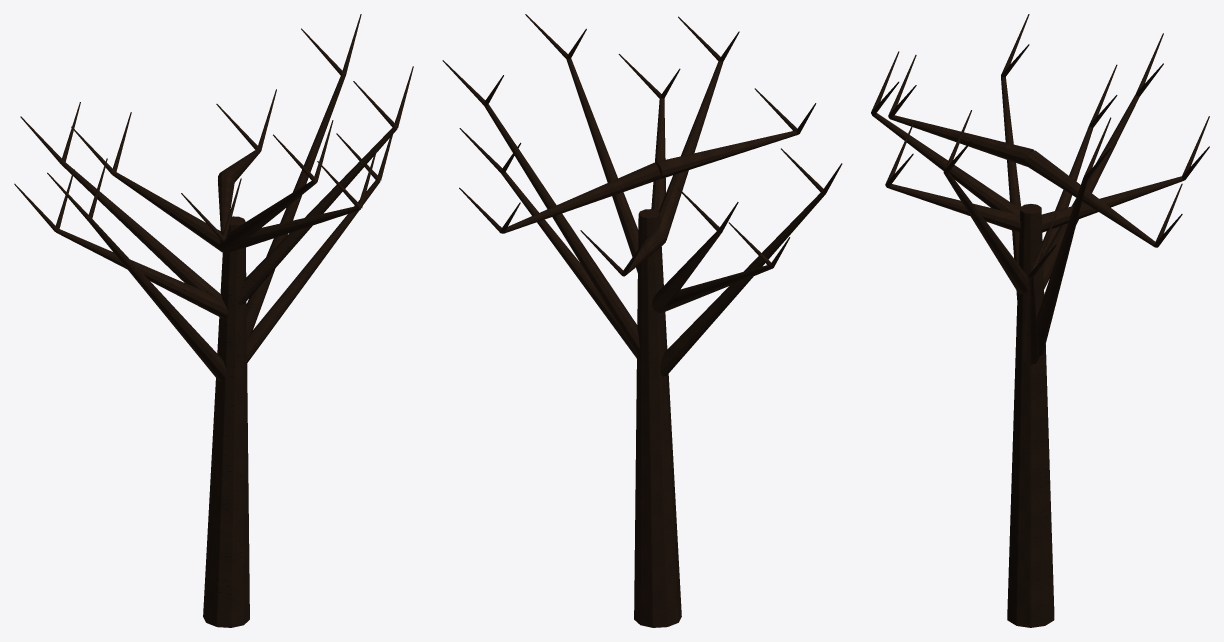
Rendered from PROP-B3FCEFD77653_lod1.glb.
3 views of the same model, side by side, from view 1: azimuth 30°, elevation 25°; view 2: azimuth 150°, elevation 25°; view 3: azimuth 270°, elevation 25° (orthographic). The views are drawn at different scales.
Parts seen in each view (by area): view 1: branch.008, trunk.020, bare_twigs.002; view 2: branch.008, trunk.020, bare_twigs.002; view 3: branch.008, trunk.020, bare_twigs.002.
Part boxes in pixels (x1=…): branch.008: x1=56, y1=75, x2=397, y2=381; trunk.020: x1=203, y1=216, x2=249, y2=627; bare_twigs.002: x1=14, y1=14, x2=413, y2=240; branch.008: x1=484, y1=58, x2=825, y2=376; trunk.020: x1=634, y1=209, x2=681, y2=627; bare_twigs.002: x1=442, y1=14, x2=842, y2=276; branch.008: x1=872, y1=76, x2=1183, y2=364; trunk.020: x1=1007, y1=204, x2=1054, y2=627; bare_twigs.002: x1=871, y1=14, x2=1209, y2=277.
Size of the model in its own units: 4.24 by 5.97 by 3.29.
1 material, 1 textured.
